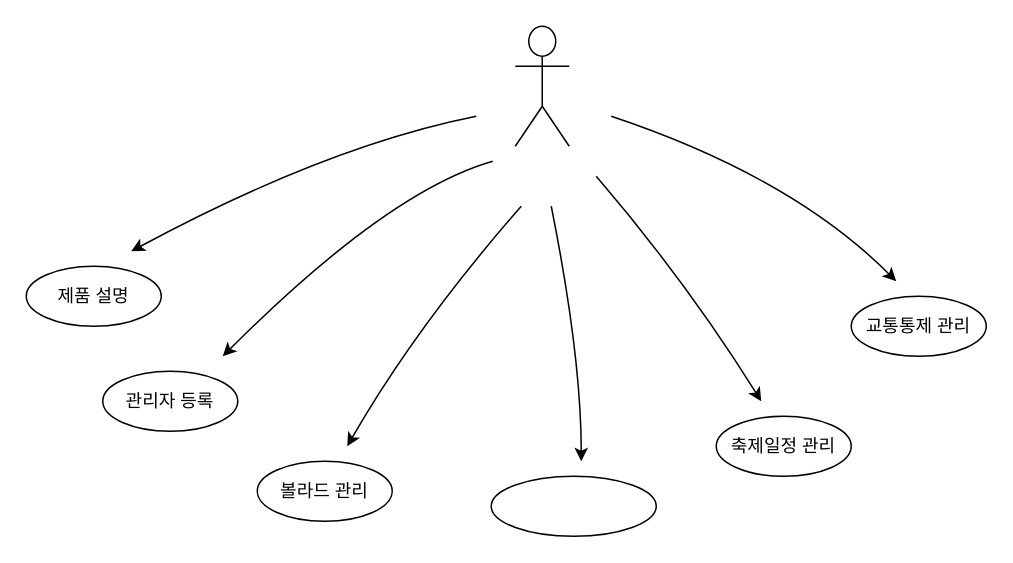
Image size: 1013x563. Some labels were removed from this diagram. The shapes that lost their labels are listed below. From the top down, each one's box as (x1, y1, x2, y2) in pixels, then its label:
(514, 25, 569, 146): 관리자
(490, 475, 656, 536): 정지선위반 관리
